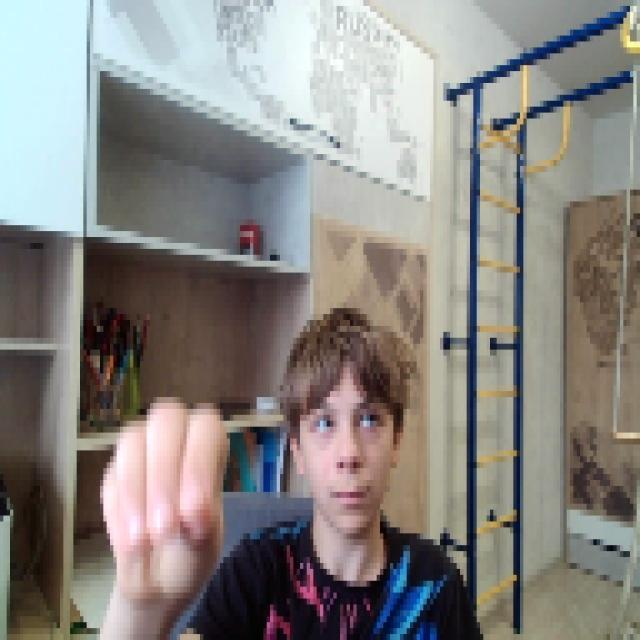left_click: (93, 385, 227, 605)
